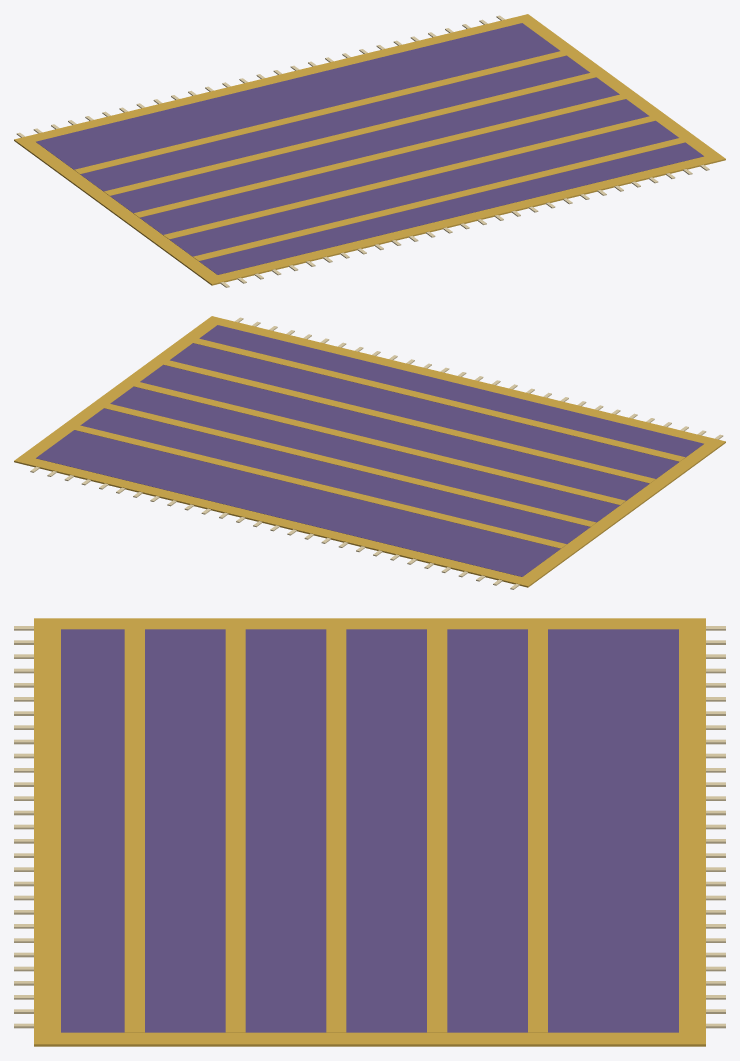
Rendered from rug_stripes.glb.
3 views of the same model, one above another, from view 1: azimuth 30°, elevation 25°; view 2: azimuth 150°, elevation 25°; view 3: azimuth 270°, elevation 25° (orthographic). The views are drawn at different scales.
Parts seen in each view (by area): view 1: rug_stripes; view 2: rug_stripes; view 3: rug_stripes.
Boxes of the visible parts, x1,y1,x2,y2 form: rug_stripes: (14, 14, 725, 287); rug_stripes: (14, 316, 725, 589); rug_stripes: (14, 618, 725, 1046).
Bounding box in the file's own units: 3 × 0.01 × 2.12.
